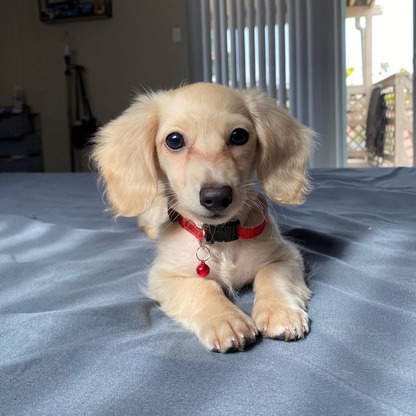dachshund: (74, 82, 350, 356)
